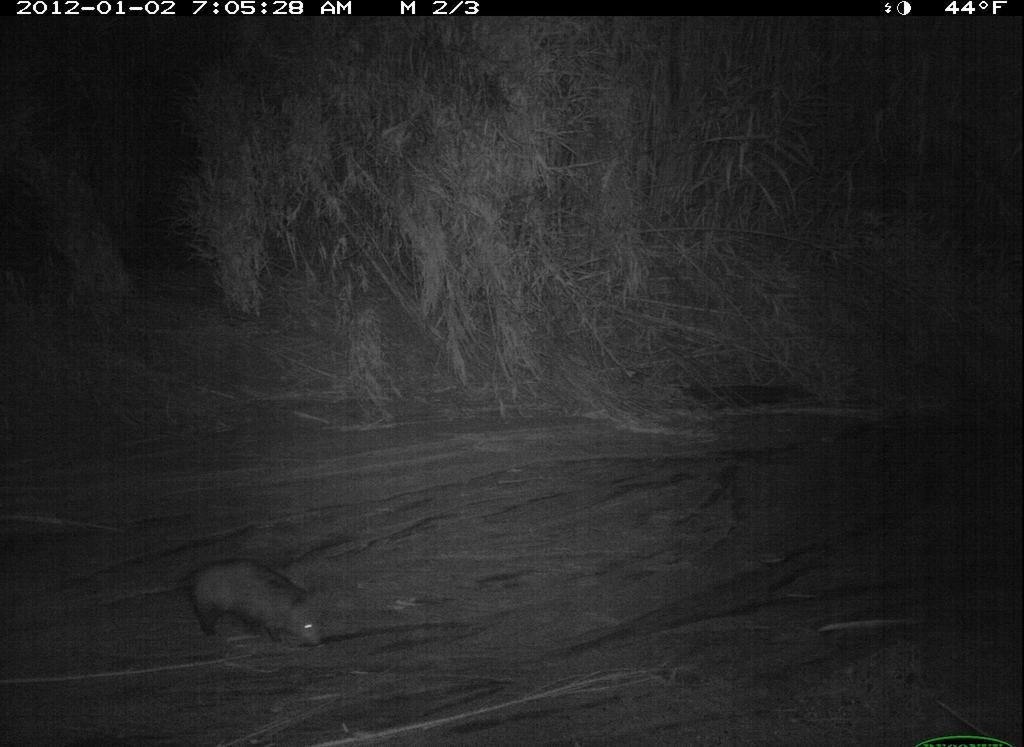opossum: (156, 555, 333, 660)
